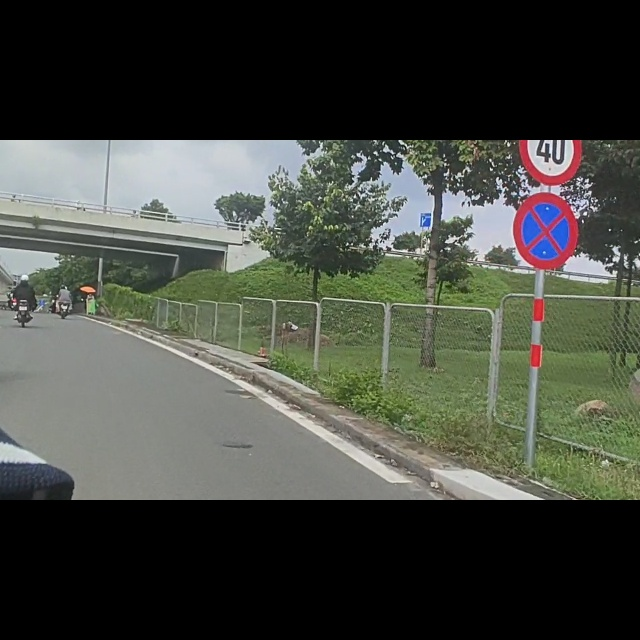bien_cam: (514, 92, 579, 232), (517, 2, 582, 79)
